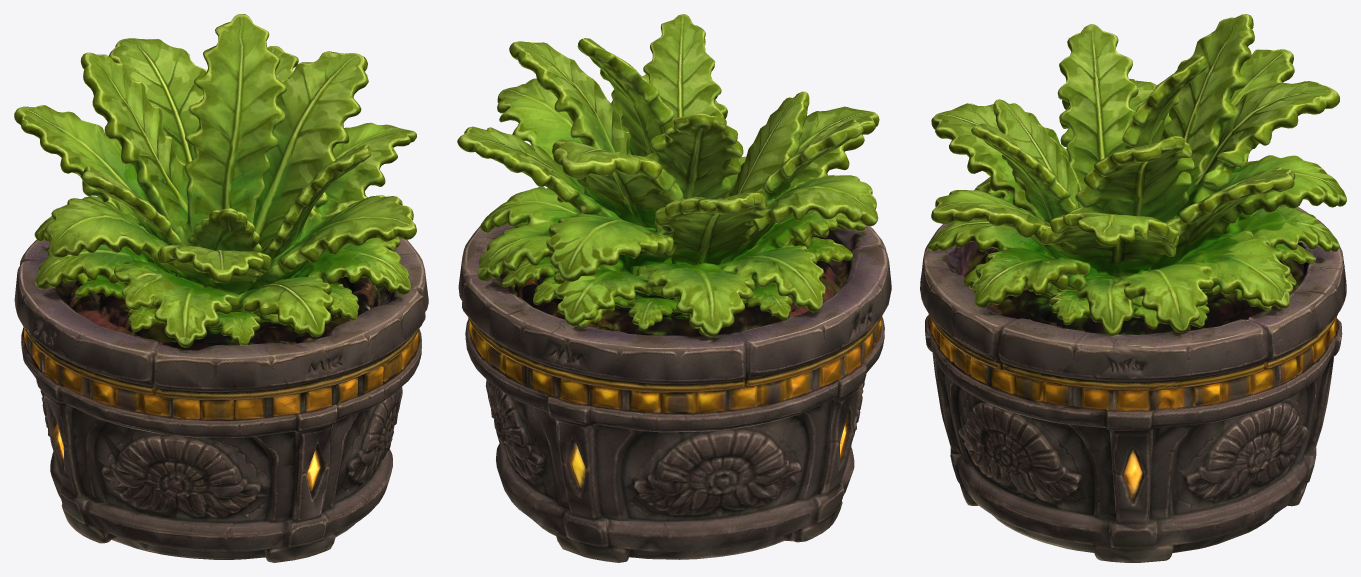
Rendered from planter.glb.
The picture shows the model from 3 angles, left to right: view 1: azimuth 30°, elevation 25°; view 2: azimuth 150°, elevation 25°; view 3: azimuth 270°, elevation 25°; orthographic projection. The views are drawn at different scales.
Visible parts, largest first — view 1: mesh_node; view 2: mesh_node; view 3: mesh_node.
Part boxes in pixels (<box>): mesh_node: <box>14,14,428,562</box>; mesh_node: <box>457,14,891,562</box>; mesh_node: <box>920,14,1346,562</box>.
Size of the model in its own units: 1.61 by 1.9 by 1.6.
Materials: 1 (1 with a texture image).
